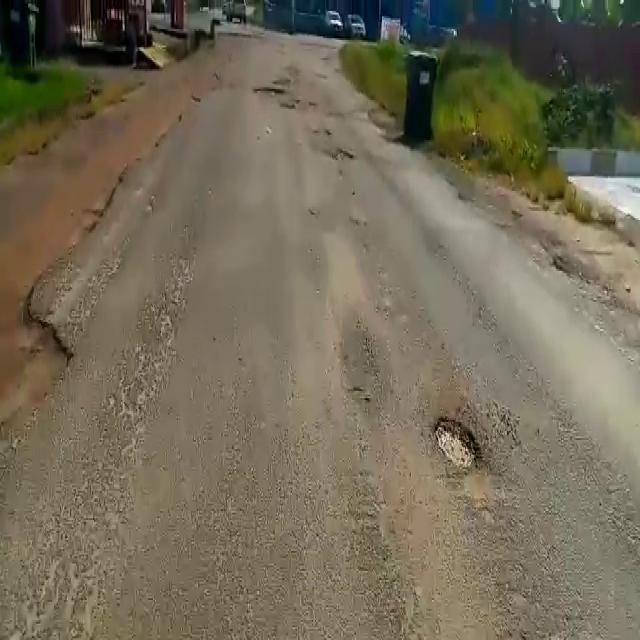Pothole: (432, 411, 488, 476), (321, 143, 361, 163)
